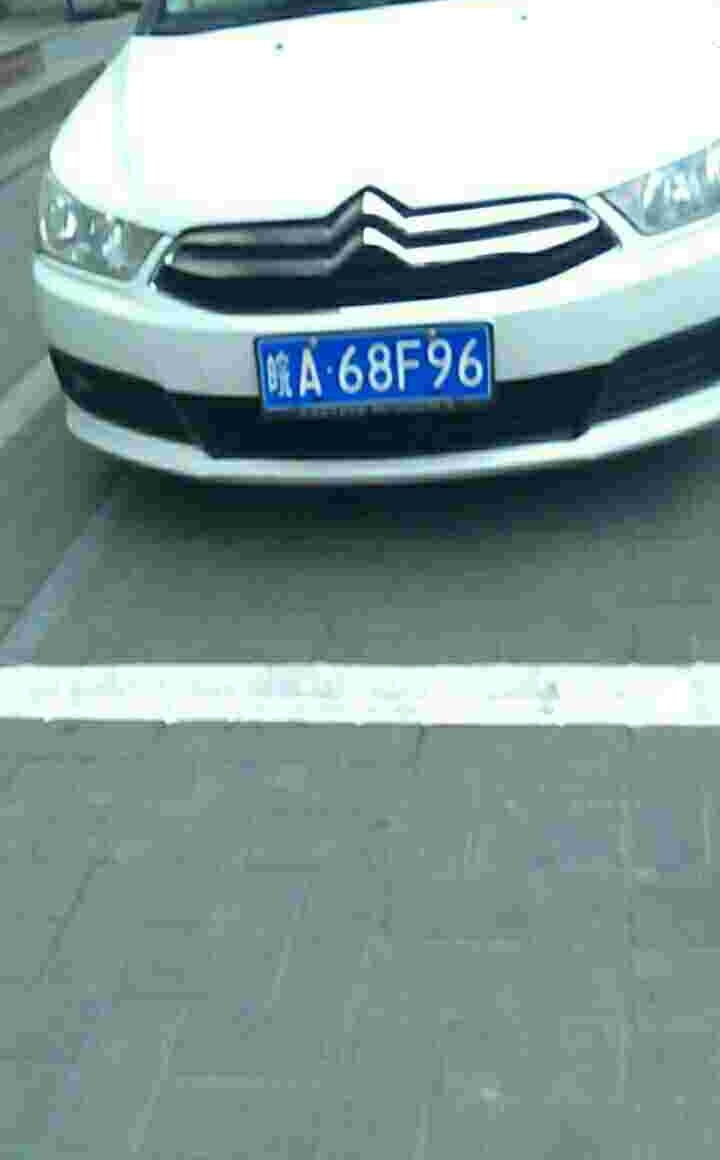plate: (259, 320, 496, 414)
